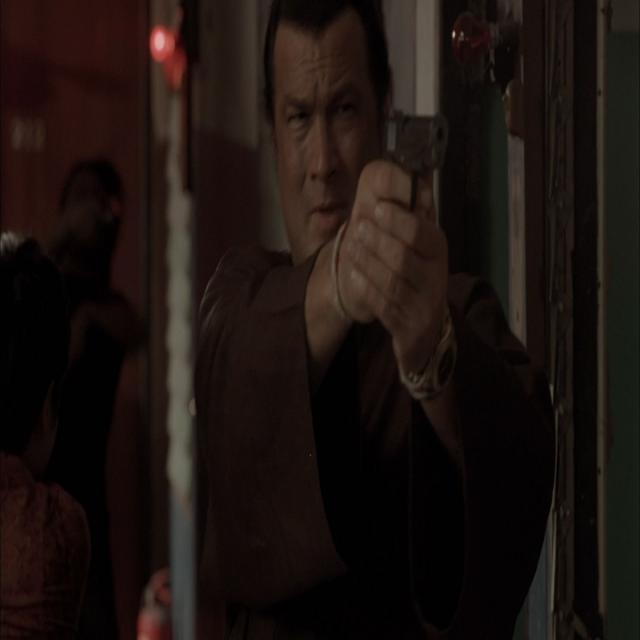gun-knife-thesis - v11 Yolov5 augmented: (367, 97, 452, 274)
